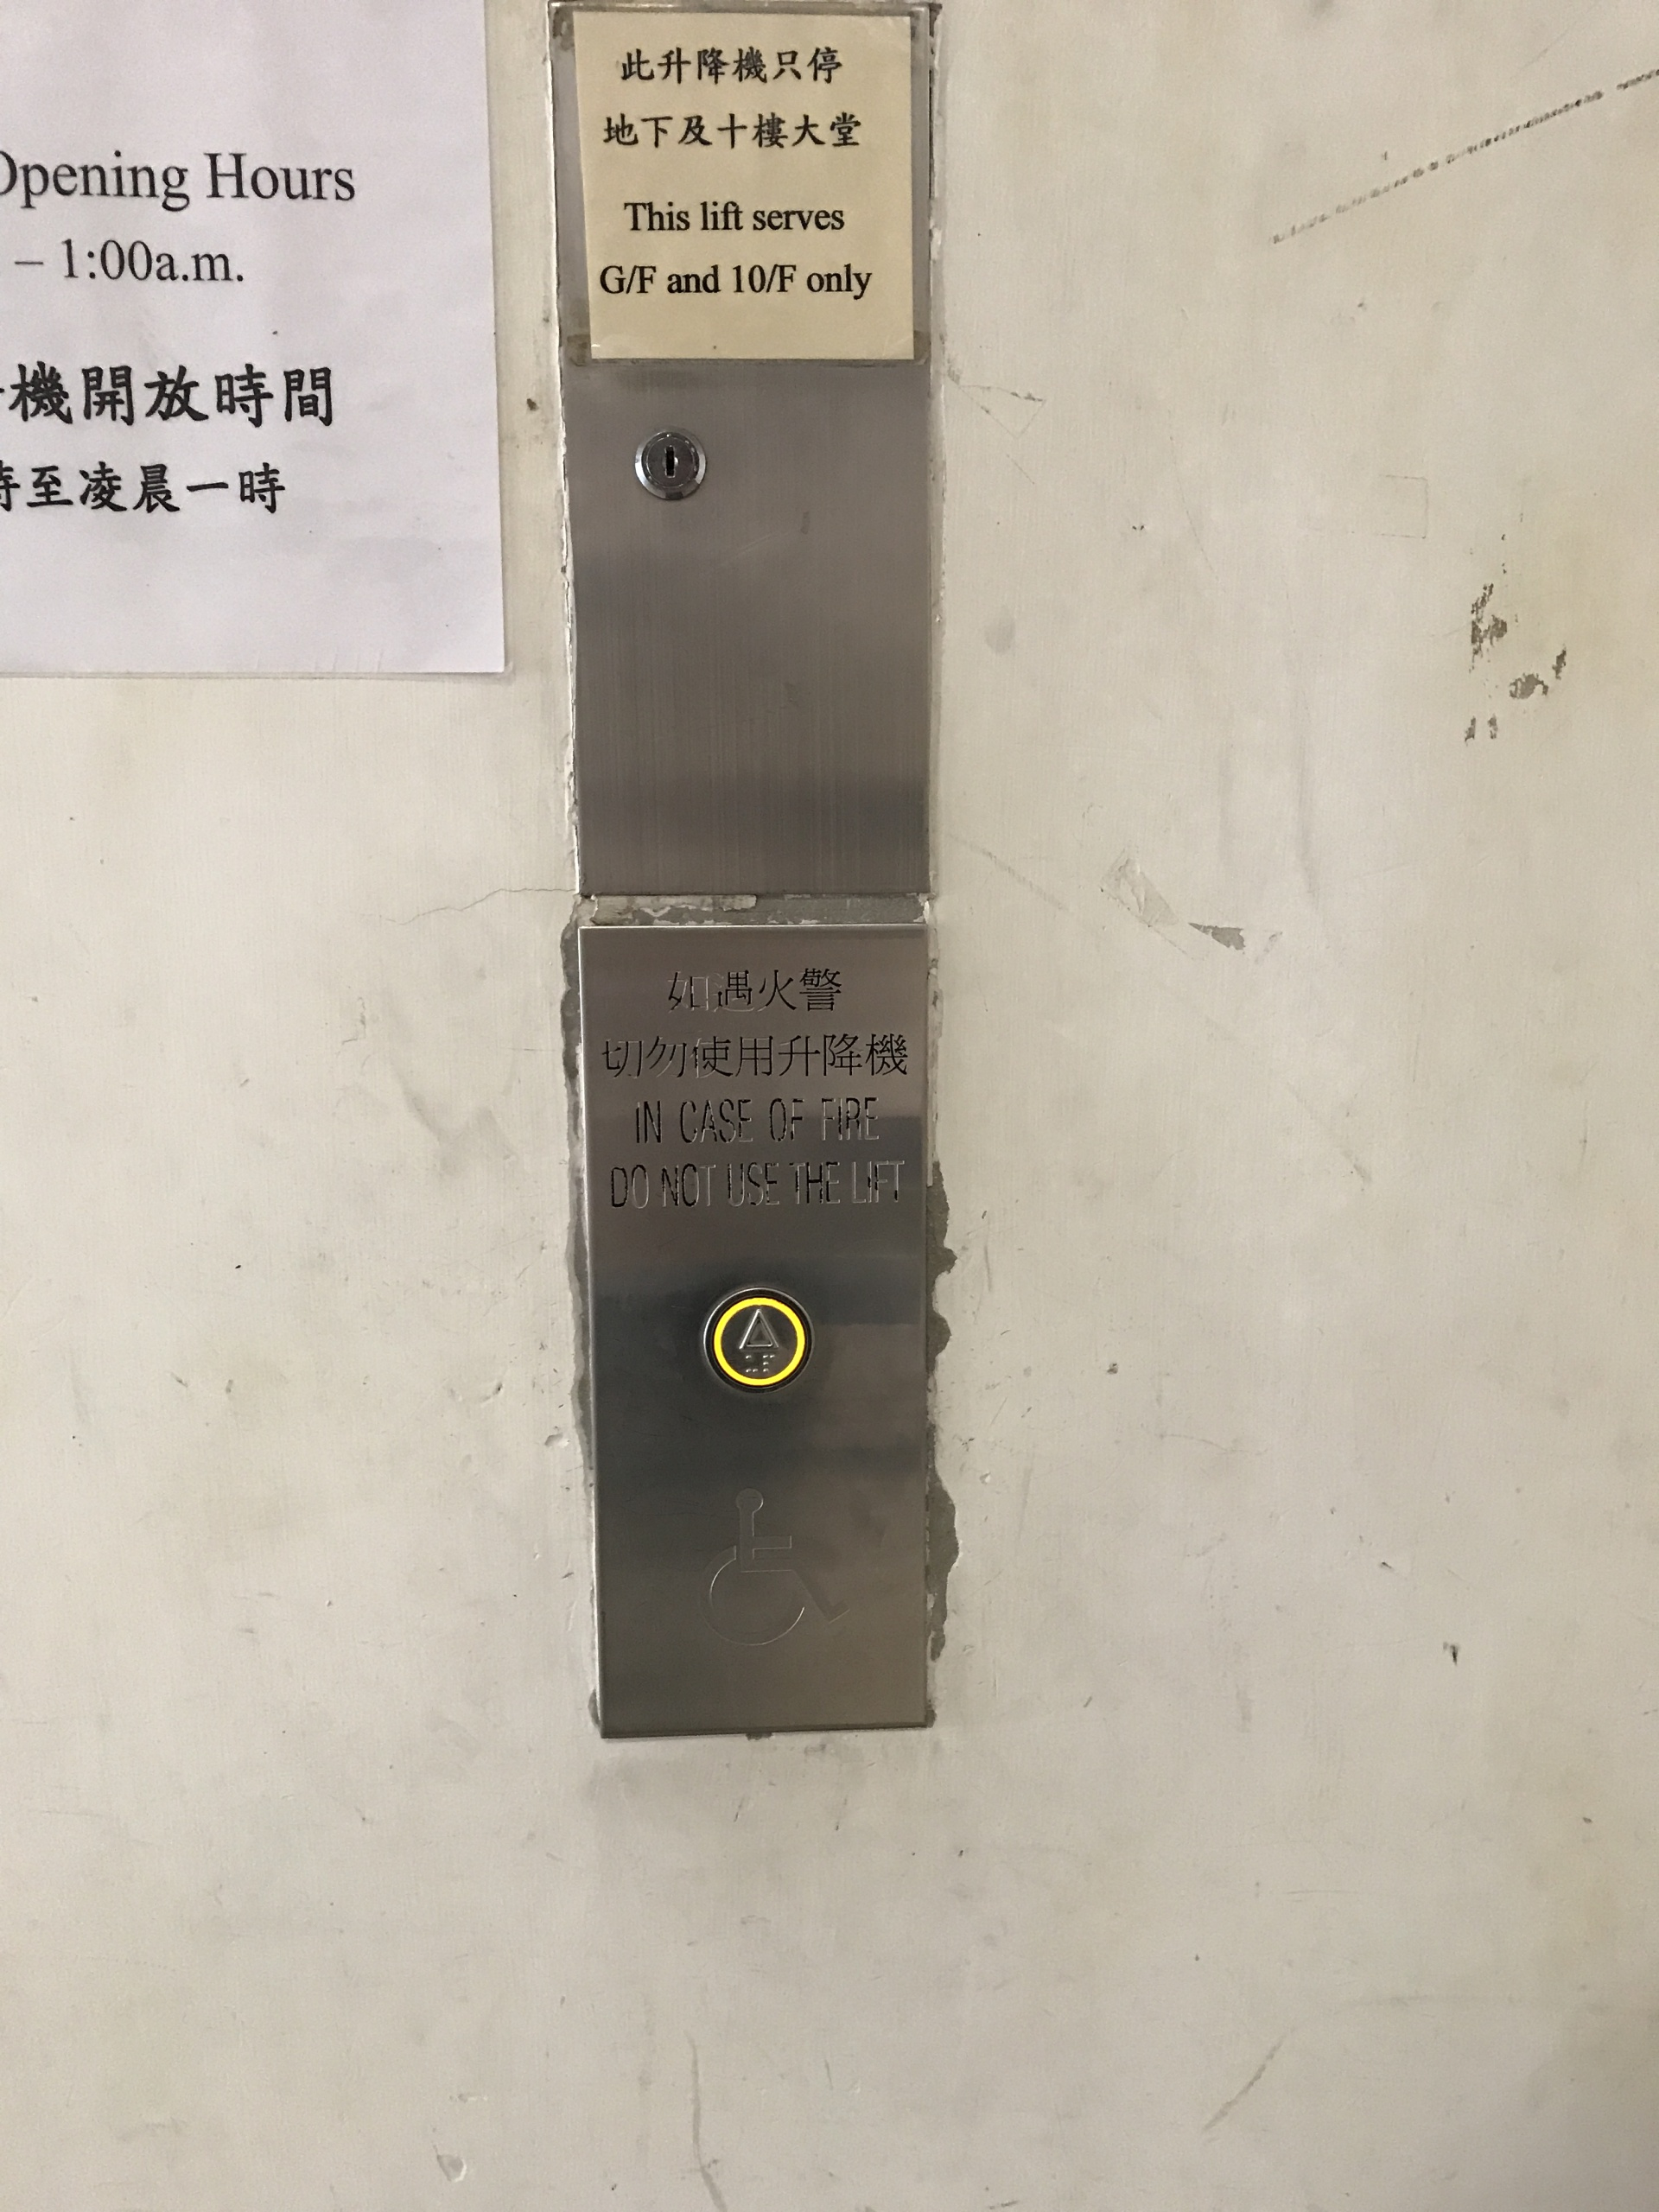up: (701, 1280, 821, 1395)
